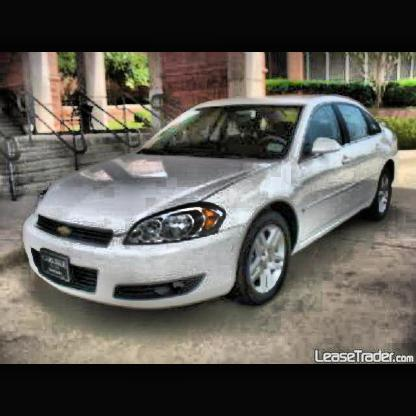Chevrolet Impala Sedan 2007: (24, 94, 399, 311)
